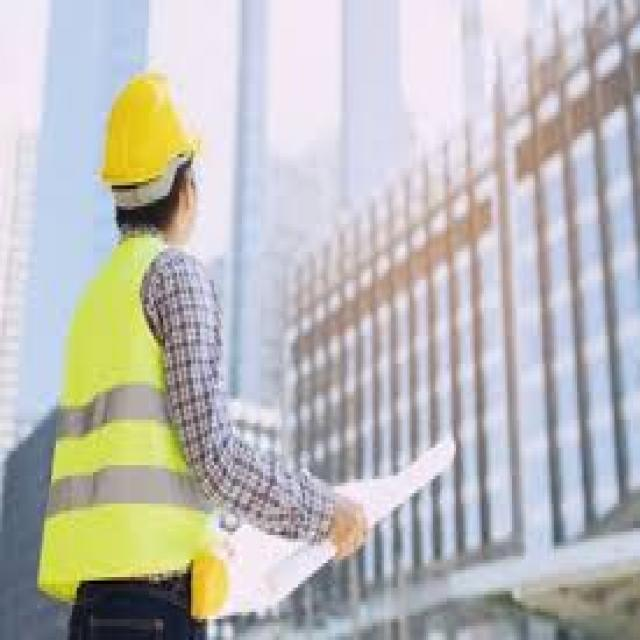Reflective-Jacket: (28, 224, 235, 608)
Safety-Helmet: (86, 59, 217, 217)
